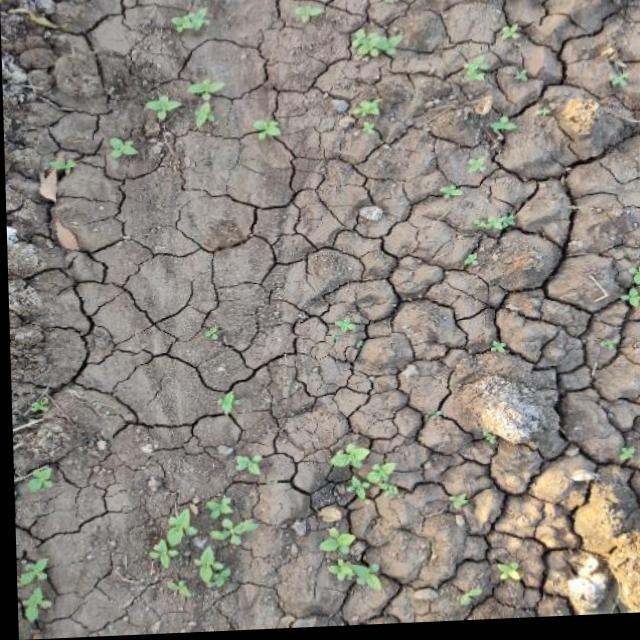crop: (438, 0, 543, 105), (329, 28, 396, 137), (434, 210, 536, 281), (314, 426, 402, 508), (304, 524, 387, 608), (445, 558, 533, 610), (198, 485, 257, 550), (138, 499, 193, 566), (14, 551, 57, 628), (183, 70, 231, 135), (85, 124, 144, 170), (184, 546, 231, 598), (155, 8, 225, 41), (17, 454, 63, 500), (130, 88, 184, 120)
